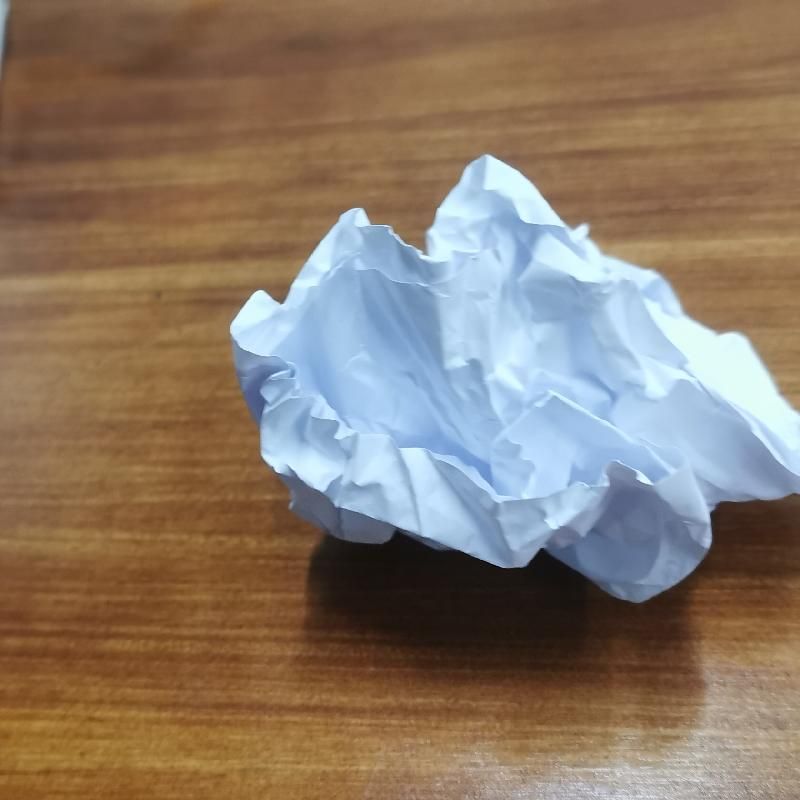spitball: (217, 148, 800, 606)
